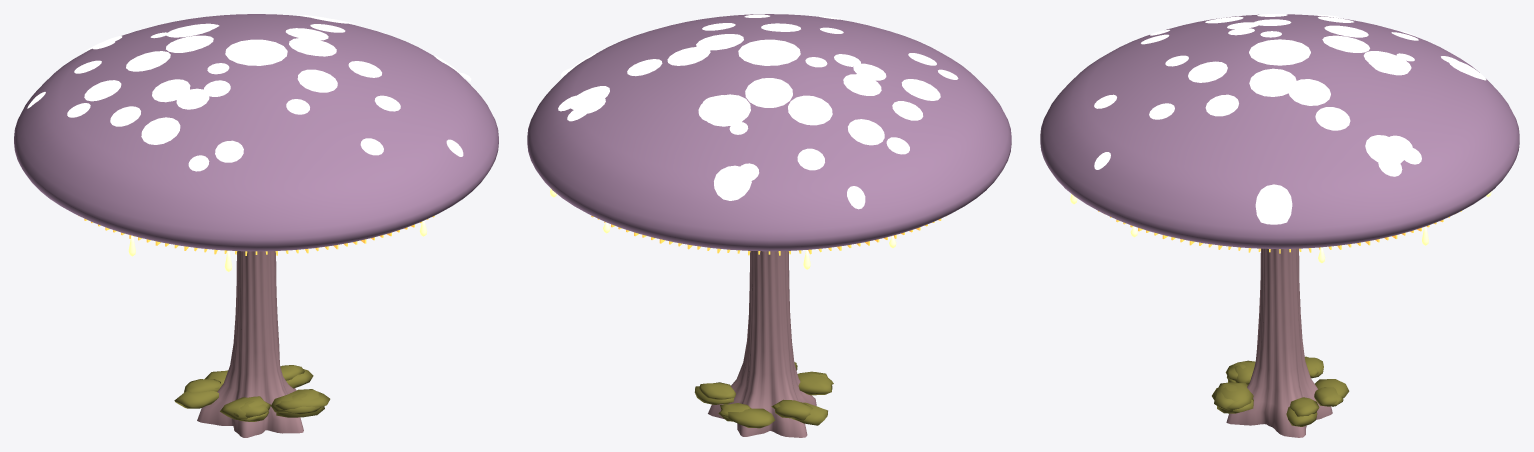
The model's file is giant.glb.
The picture shows the model from 3 angles, left to right: view 1: azimuth 30°, elevation 25°; view 2: azimuth 150°, elevation 25°; view 3: azimuth 270°, elevation 25°; orthographic projection.
Parts seen in each view (by area): view 1: cap, spot_nightglow, stem, moss, gill_rib; view 2: cap, spot_nightglow, stem, moss, gill_rib; view 3: cap, spot_nightglow, stem, moss, gill_rib.
Part boxes in pixels (<box>): cap: <box>14,14,498,251</box>; spot_nightglow: <box>27,15,471,171</box>; stem: <box>197,251,303,437</box>; moss: <box>174,365,330,421</box>; gill_rib: <box>84,216,434,255</box>; cap: <box>527,14,1011,251</box>; spot_nightglow: <box>558,14,958,209</box>; stem: <box>708,251,816,437</box>; moss: <box>694,362,833,428</box>; gill_rib: <box>591,215,946,255</box>; cap: <box>1040,14,1519,248</box>; spot_nightglow: <box>1094,14,1486,224</box>; stem: <box>1226,248,1332,437</box>; moss: <box>1212,356,1349,426</box>; gill_rib: <box>1098,211,1461,253</box>.
Size of the model in its own units: 14 by 11.67 by 14.
